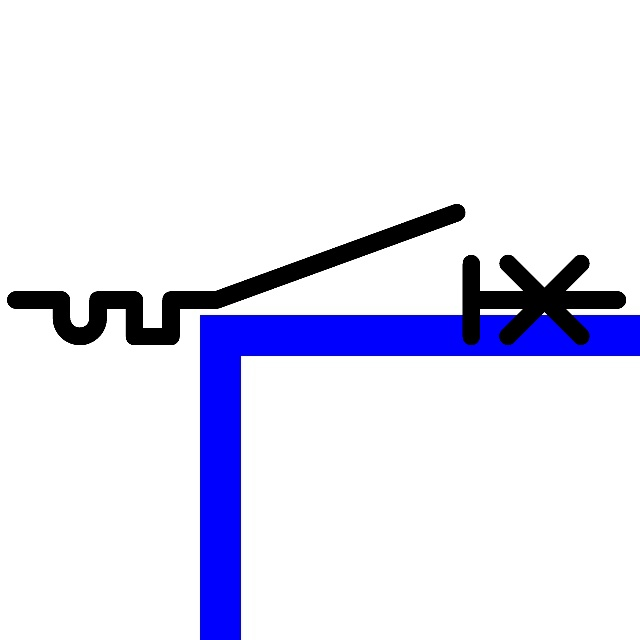interruptor_termomagnetico: (0, 197, 632, 352)
